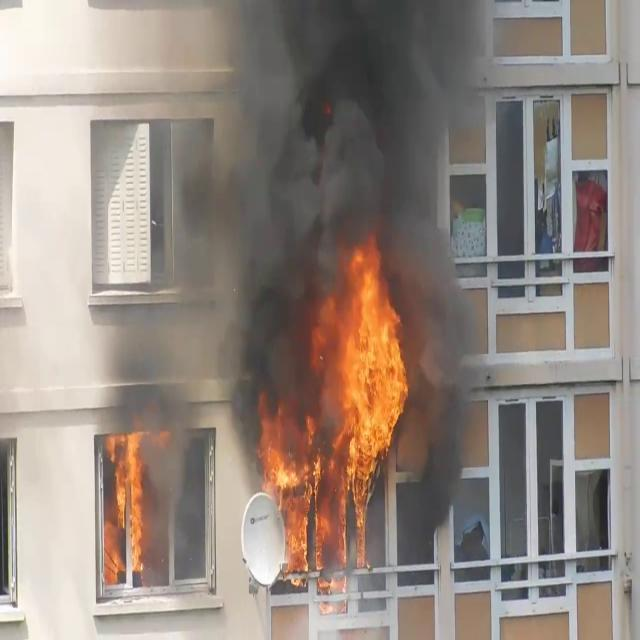Fire: (263, 245, 411, 577), (260, 415, 324, 576), (100, 421, 152, 584)
Smoke: (163, 1, 482, 379)
